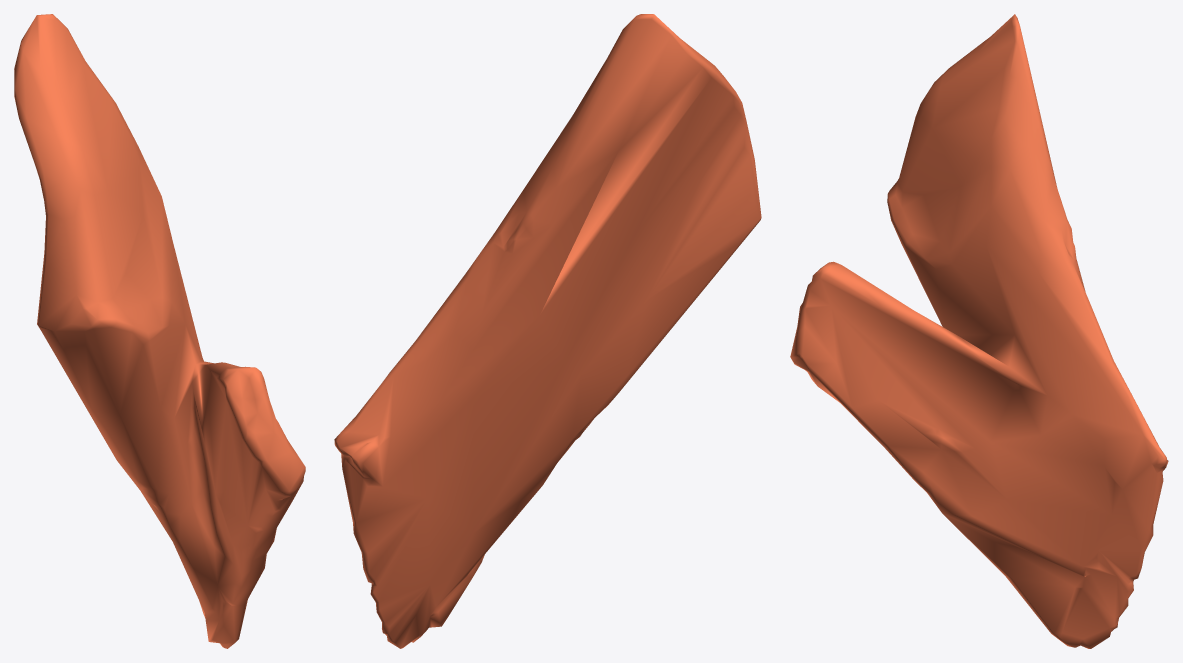
Rendered from Medial_pterygoid_left.glb.
The picture shows the model from 3 angles, left to right: view 1: azimuth 30°, elevation 25°; view 2: azimuth 150°, elevation 25°; view 3: azimuth 270°, elevation 25°; orthographic projection. The views are drawn at different scales.
Parts seen in each view (by area): view 1: Medial_pterygoid_muscle.l_Generated_Mesh_From_X3D.351; view 2: Medial_pterygoid_muscle.l_Generated_Mesh_From_X3D.351; view 3: Medial_pterygoid_muscle.l_Generated_Mesh_From_X3D.351.
Part boxes in pixels (bbox=[...]): Medial_pterygoid_muscle.l_Generated_Mesh_From_X3D.351: bbox=[14, 14, 305, 648]; Medial_pterygoid_muscle.l_Generated_Mesh_From_X3D.351: bbox=[334, 14, 761, 648]; Medial_pterygoid_muscle.l_Generated_Mesh_From_X3D.351: bbox=[790, 14, 1168, 648].
Bounding box in the file's own units: 0.0224 × 0.0492 × 0.0307.
